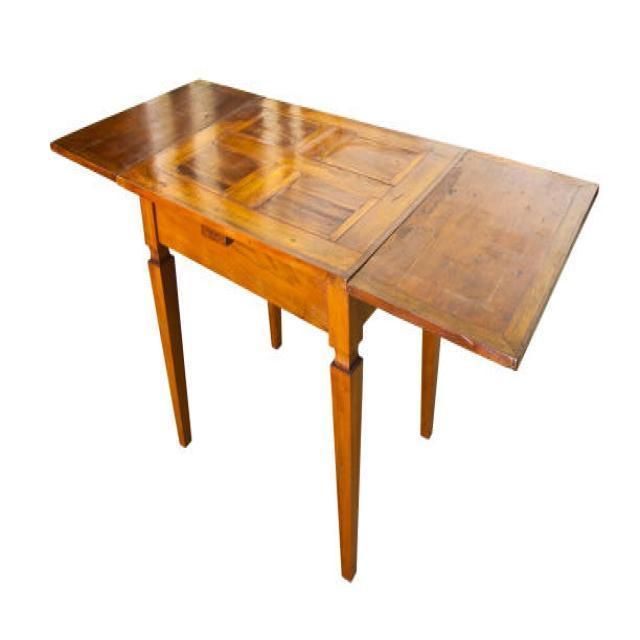table: (49, 75, 599, 582)
